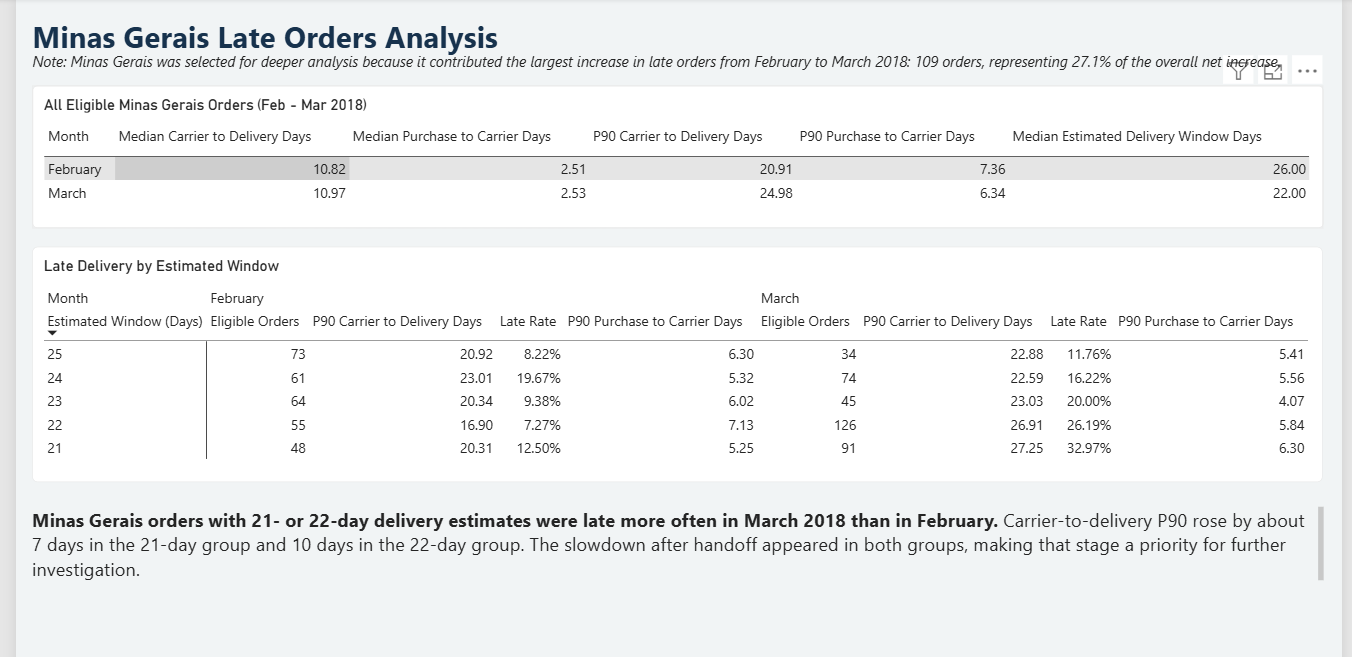

The page's visual inventory and layout, read from the dashboard file:
{"tool":"powerbi","page":{"name":"Minas Gerais Deep Dive","canvas":[1920,1080],"ordinal":2},"visuals":[{"type":"tableEx","title":"All Eligible Minas Gerais Orders (Feb - Mar 2018)","fields":{"Values":["Orders.order_purchase_timestamp.Variation.Date Hierarchy.Month","Orders.Median Carrier to Delivery Days","Orders.Median Purchase to Carrier Days","Orders.P90 Carrier to Delivery Days","Orders.P90 Purchase to Carrier Days","Orders.Median Estimated Delivery Window Days"]},"box":[23.5,126.7,1869.4,206.3],"z":0},{"type":"pivotTable","title":"Late Delivery by Estimated Window","fields":{"Columns":["Orders.order_purchase_timestamp.Variation.Date Hierarchy.Month"],"Rows":["Orders.estimated_delivery_window_days"],"Values":["Orders.Eligible Delivered Orders","Orders.P90 Carrier to Delivery Days","Orders.Late Delivery Rate","Orders.P90 Purchase to Carrier Days"]},"box":[24.1,360.8,1868.3,340.8],"z":1000},{"type":"textbox","box":[23.5,736.5,1869.4,123.1],"z":2000},{"type":"textbox","box":[23.5,25.3,698.5,101.3],"z":3000},{"type":"textbox","box":[23.5,76,1869.4,50.7],"z":3001}]}

Visuals, with their boxes on the page's 1920x1080 design canvas (x1, y1, x2, y2). These are canvas units, not pixel positions in the 1352x657 screenshot, which may show the page scaled, cropped or inside an application window:
"All Eligible Minas Gerais Orders (Feb - Mar 2018)" tableEx: (x1=24, y1=127, x2=1893, y2=333)
"Late Delivery by Estimated Window" pivotTable: (x1=24, y1=361, x2=1892, y2=702)
textbox: (x1=24, y1=736, x2=1893, y2=860)
textbox: (x1=24, y1=25, x2=722, y2=127)
textbox: (x1=24, y1=76, x2=1893, y2=127)
